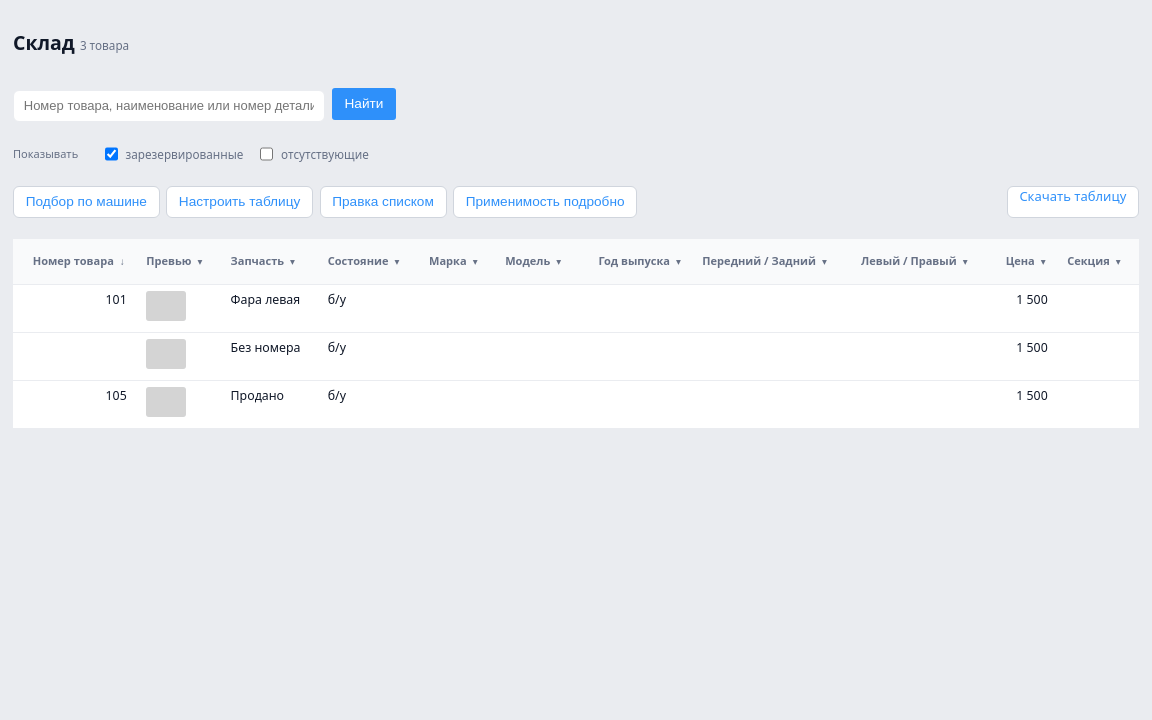
печать этикеток из списка склада › позиция без номера товара и без остатка — названы, а не потеряны молча
Expected: the row "101 Фара левая б/у 1 500" is shown, 13,284 -> 1139,332
Click the button "Правка списком" at (383, 202), box 320,186 -> 446,218
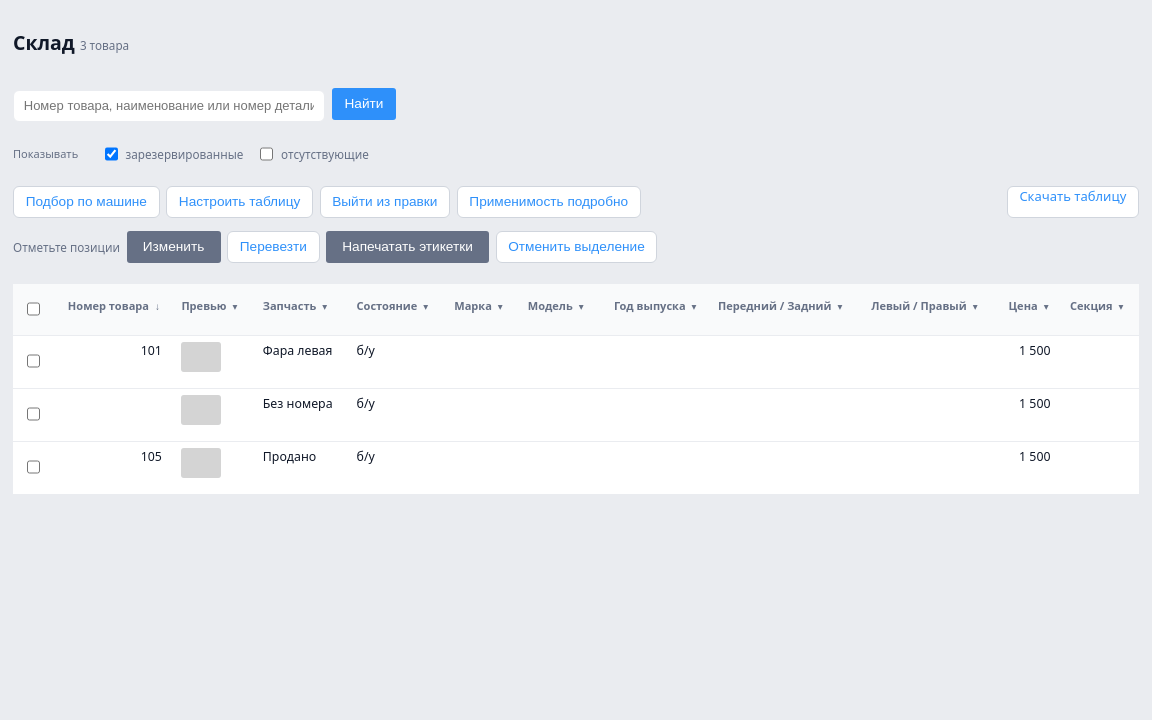
Click the row "101 Фара левая б/у 1 500" at (576, 362), box 13,335 -> 1139,388
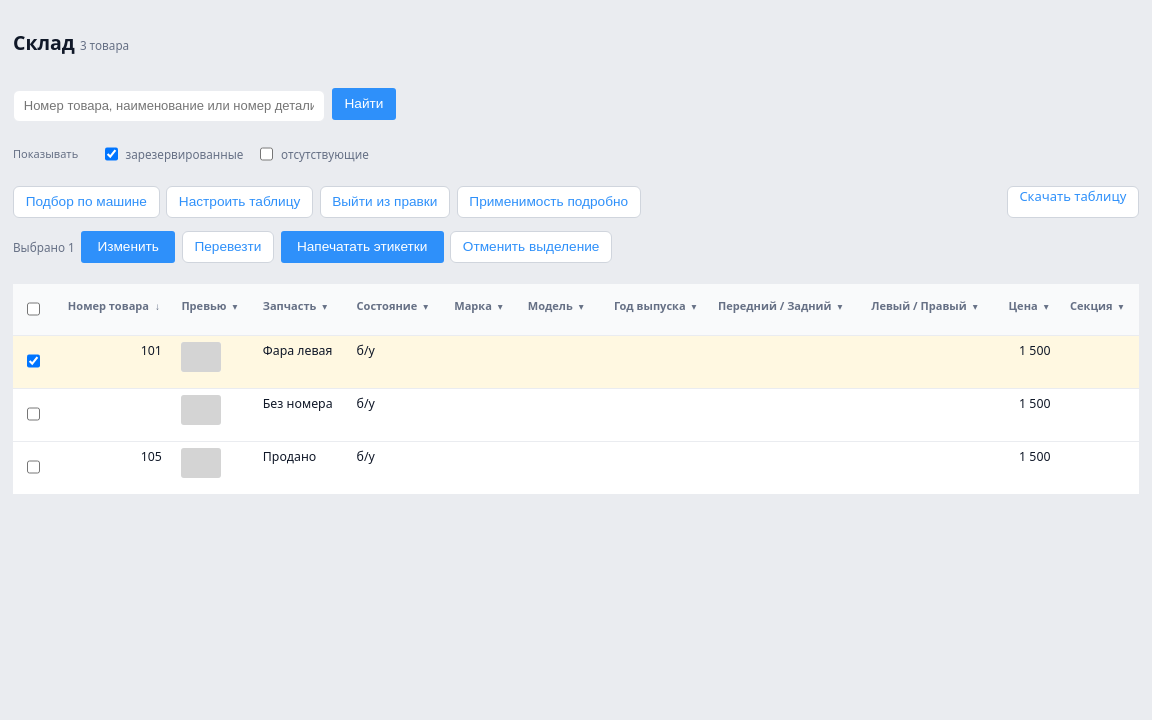
Click the row "Без номера б/у 1 500" at (576, 415), box 13,388 -> 1139,441
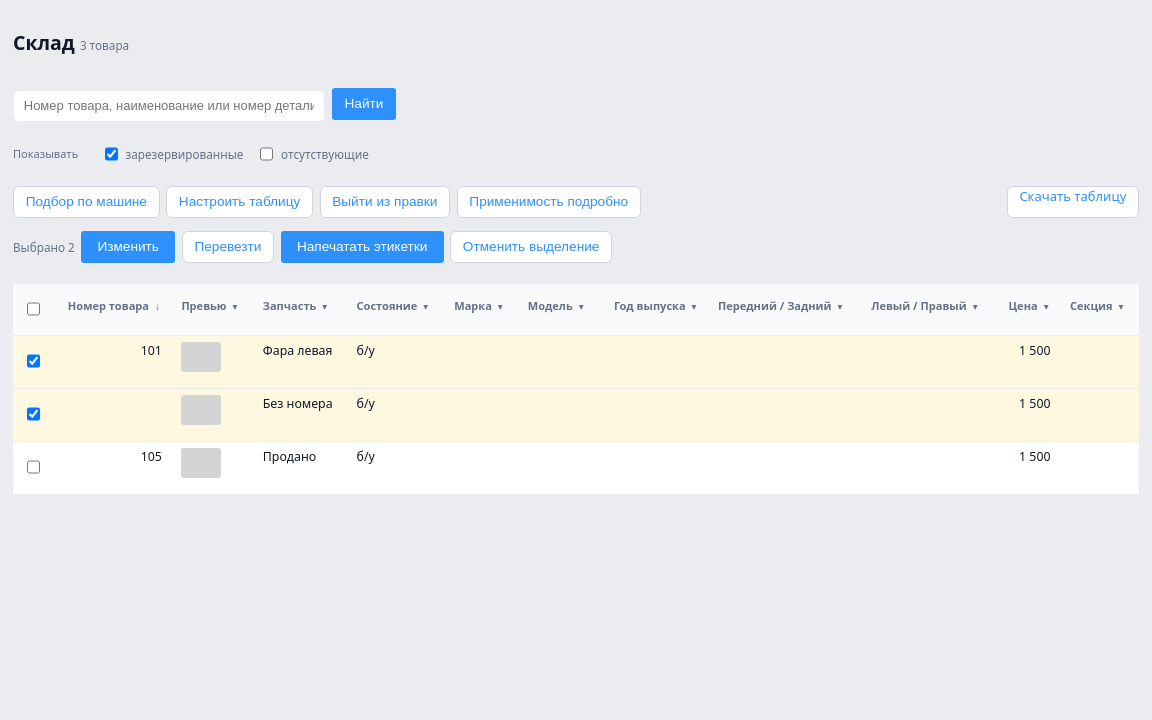
Click the row "105 Продано б/у 1 500" at (576, 468), box 13,441 -> 1139,494
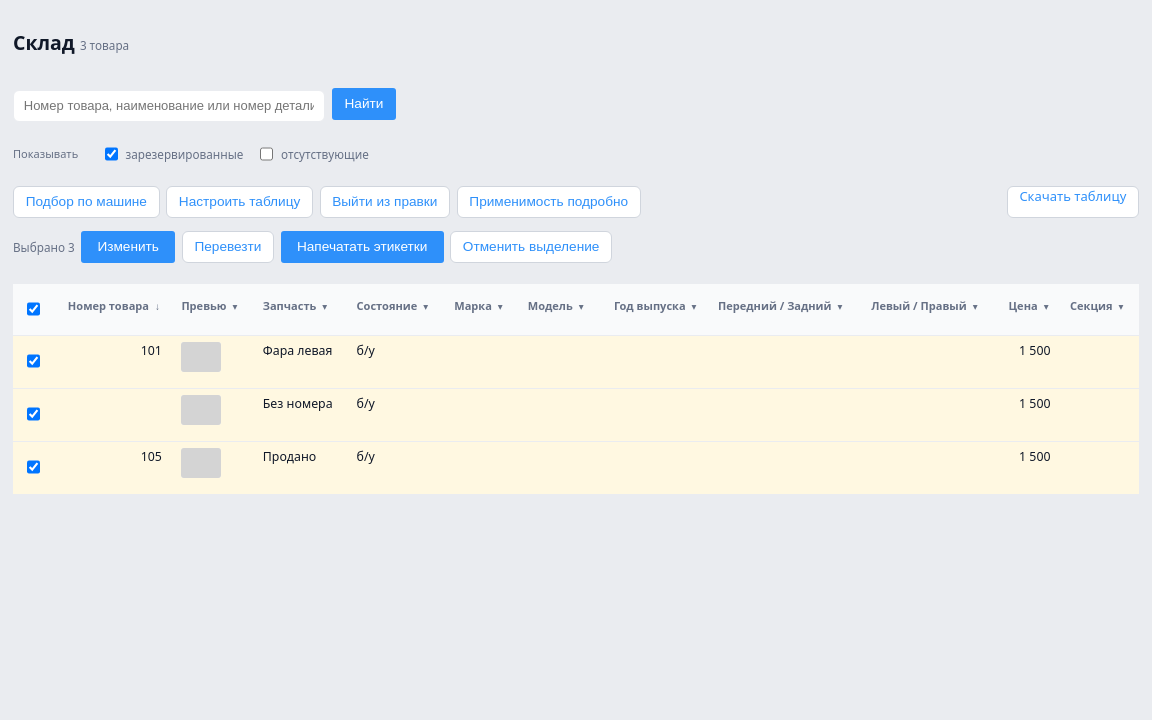
Click the button "Напечатать этикетки" at (362, 247), box 281,231 -> 444,263
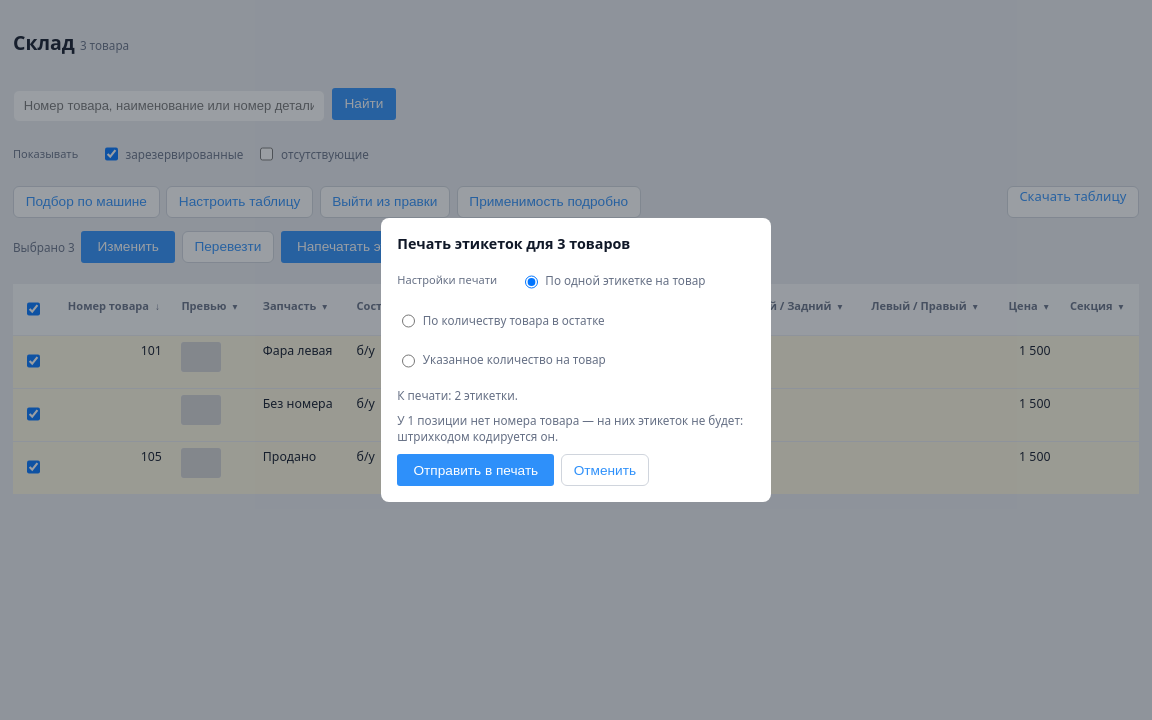
Now the text "К печати: 2 этикетки." is shown, box 397,386 -> 518,402
Click the radio button labelled "По количеству товара в остатке" at (409, 321), box 402,305 -> 415,337
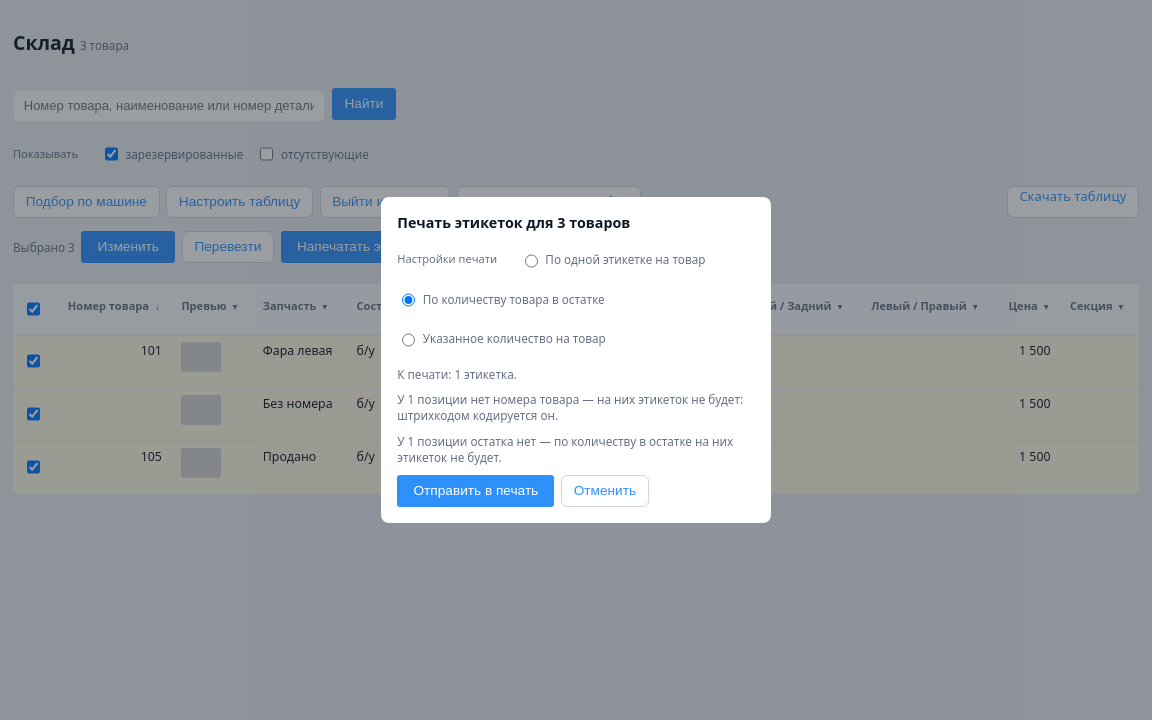
Now the text "К печати: 1 этикетка." is shown, box 397,366 -> 517,382
